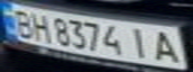3: (66, 18, 87, 51)
4: (100, 22, 127, 56)
7: (81, 20, 103, 52)
8: (48, 15, 72, 47)
A: (148, 28, 184, 64)
B: (6, 7, 36, 38)
H: (27, 11, 54, 43)
I: (124, 25, 157, 60)
